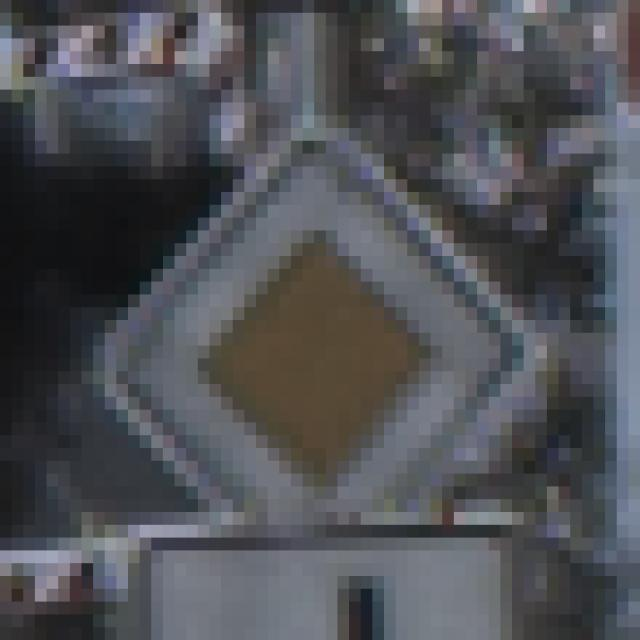Main Road: (71, 65, 583, 577)
